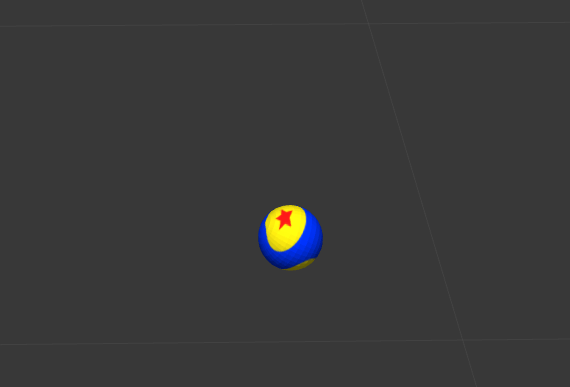toy_story_ball: (257, 205, 323, 271)
